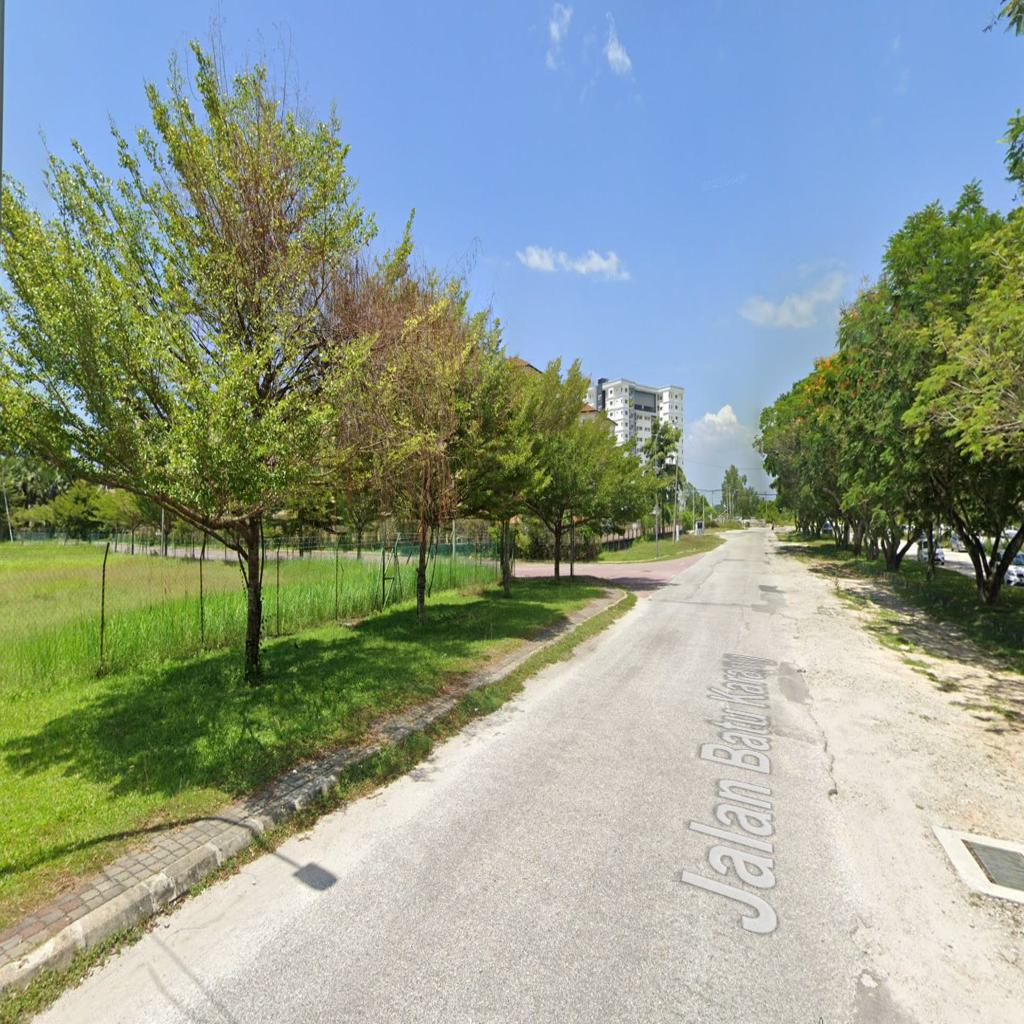Junction: (564, 532, 715, 617)
